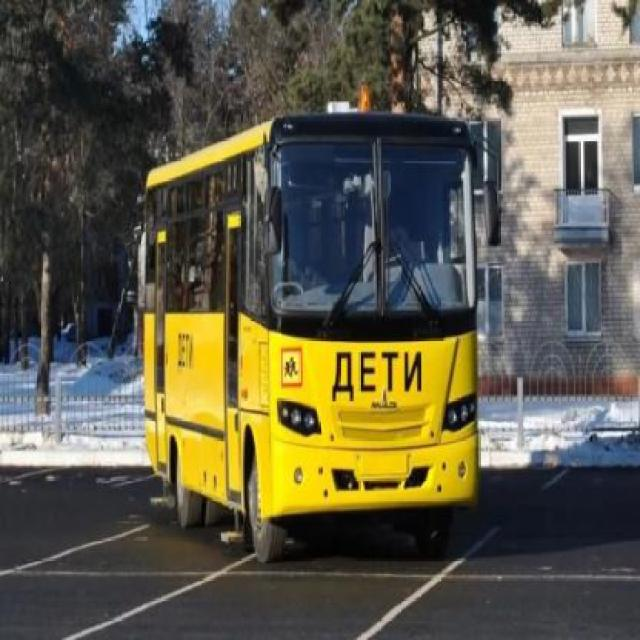bus: (145, 110, 477, 565)
